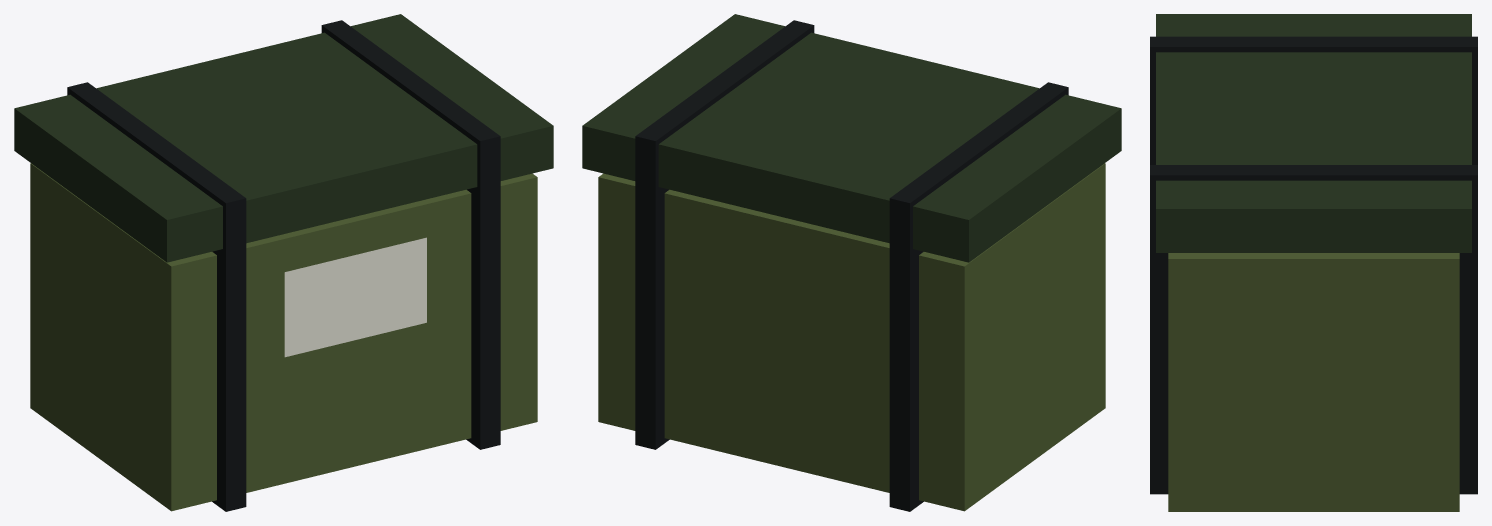
File: ammo-crate.glb
3 renders of one model, left to right at view 1: azimuth 30°, elevation 25°; view 2: azimuth 150°, elevation 25°; view 3: azimuth 270°, elevation 25°, orthographic. The views are drawn at different scales.
Visible parts, largest first — view 1: crateBody, lid, leftStrap, rightStrap, frontStencil; view 2: crateBody, lid, leftStrap, rightStrap; view 3: crateBody, lid, rightStrap, leftStrap.
Part boxes in pixels (x1,y1,x2,y2): crateBody: (30, 163, 537, 511); lid: (14, 14, 553, 262); leftStrap: (67, 82, 246, 511); rightStrap: (321, 20, 500, 449); frontStencil: (284, 237, 426, 357); crateBody: (598, 163, 1105, 511); lid: (582, 14, 1121, 262); leftStrap: (889, 82, 1068, 511); rightStrap: (635, 20, 814, 449); crateBody: (1168, 253, 1459, 511); lid: (1156, 14, 1471, 252); rightStrap: (1150, 165, 1477, 494); leftStrap: (1150, 36, 1477, 164).
Size of the model in its own units: 0.76 by 0.58 by 0.54.
